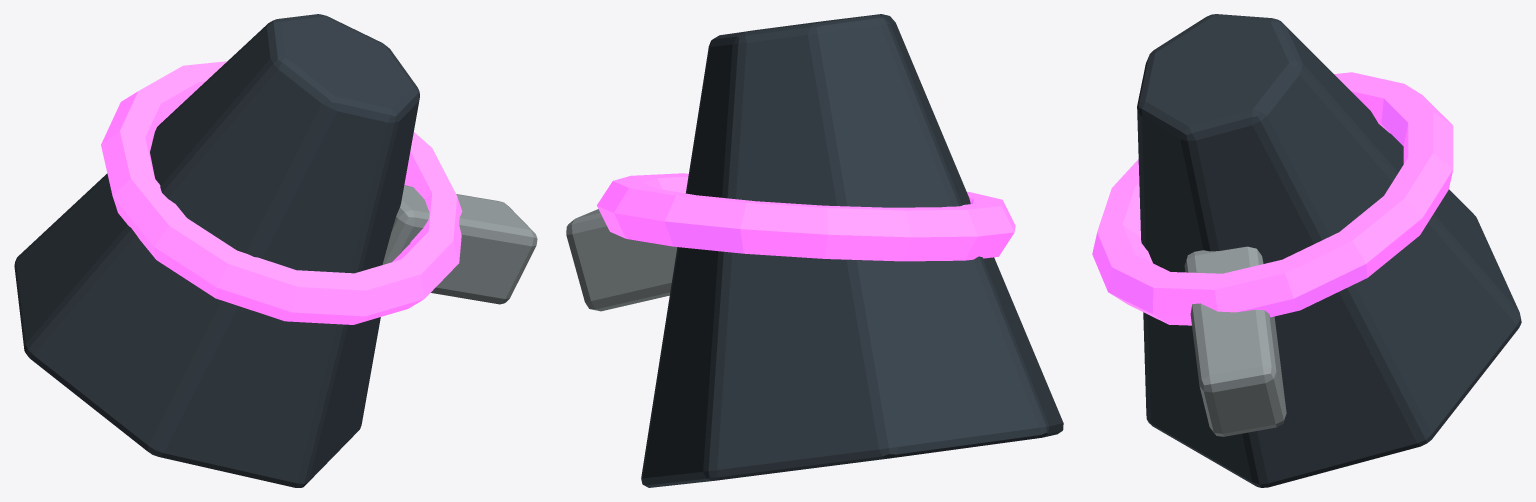
File: Find_UnknownDebris.glb
The picture shows the model from 3 angles, left to right: view 1: azimuth 30°, elevation 25°; view 2: azimuth 150°, elevation 25°; view 3: azimuth 270°, elevation 25°; orthographic projection. The views are drawn at different scales.
Visible parts, largest first — view 1: Find_UnknownDebris, Find_UnknownDebris_Ring, Find_UnknownDebris_Tab; view 2: Find_UnknownDebris, Find_UnknownDebris_Ring, Find_UnknownDebris_Tab; view 3: Find_UnknownDebris, Find_UnknownDebris_Ring, Find_UnknownDebris_Tab.
Boxes of the visible parts, <box> form: Find_UnknownDebris: <box>14,14,419,487</box>; Find_UnknownDebris_Ring: <box>101,61,462,324</box>; Find_UnknownDebris_Tab: <box>382,185,537,304</box>; Find_UnknownDebris: <box>641,14,1063,487</box>; Find_UnknownDebris_Ring: <box>597,173,1015,261</box>; Find_UnknownDebris_Tab: <box>566,209,677,311</box>; Find_UnknownDebris: <box>1137,14,1521,487</box>; Find_UnknownDebris_Ring: <box>1092,72,1453,325</box>; Find_UnknownDebris_Tab: <box>1184,246,1286,436</box>.
Bounding box in the file's own units: 1.1 × 0.9713 × 0.8766.
